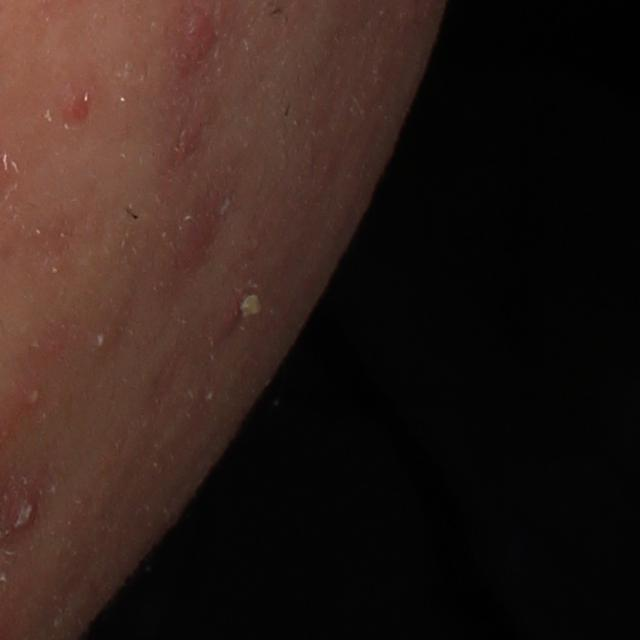papule: (44, 83, 110, 137), (179, 13, 224, 66)
pustule: (19, 380, 47, 411)
